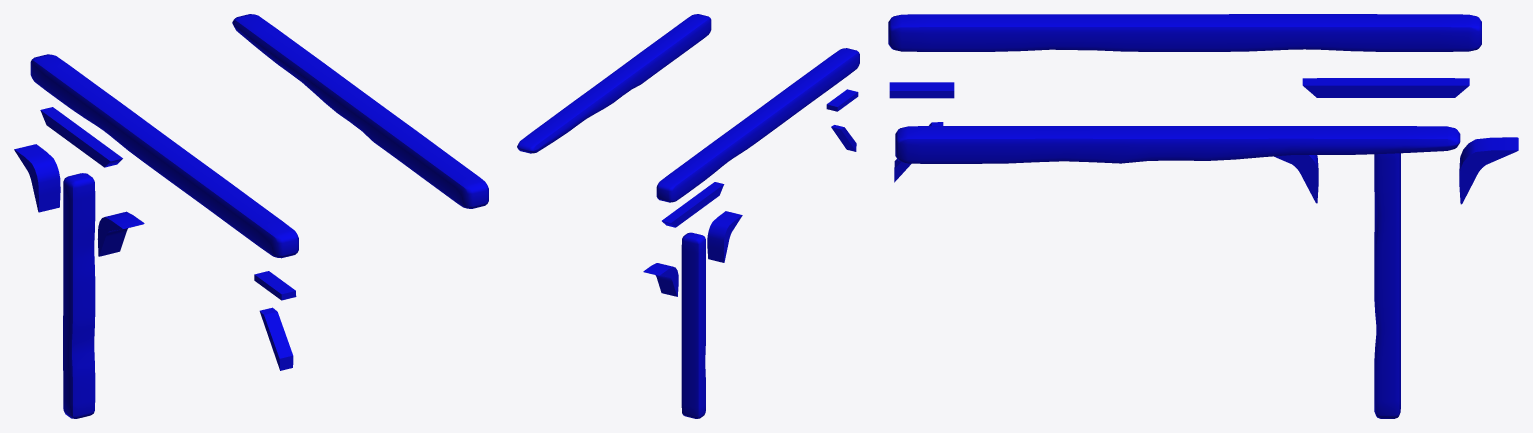
Rendered from beams_low.fbx.
The picture shows the model from 3 angles, left to right: view 1: azimuth 30°, elevation 25°; view 2: azimuth 150°, elevation 25°; view 3: azimuth 270°, elevation 25°; orthographic projection. The views are drawn at different scales.
Parts seen in each view (by area): view 1: BeamB_low1, BeamA_low1, ColumnA_low1, Col_sideC_low1, Col_topA_low1, col_sideB_low1, wallHold_B_low1, wallHold_A_low1; view 2: BeamB_low1, BeamA_low1, ColumnA_low1, col_sideB_low1, Col_topA_low1, Col_sideC_low1, wallHold_A_low1, wallHold_B_low1; view 3: BeamB_low1, BeamA_low1, ColumnA_low1, Col_topA_low1, Col_sideC_low1, wallHold_A_low1, col_sideB_low1.
Boxes of the visible parts, x1,y1,x2,y2 form: BeamB_low1: [30, 54, 298, 258]; BeamA_low1: [232, 14, 488, 208]; ColumnA_low1: [63, 173, 95, 418]; Col_sideC_low1: [14, 144, 60, 212]; Col_topA_low1: [40, 107, 122, 167]; col_sideB_low1: [97, 211, 144, 256]; wallHold_B_low1: [259, 307, 293, 370]; wallHold_A_low1: [254, 271, 296, 300]; BeamB_low1: [656, 48, 859, 202]; BeamA_low1: [517, 14, 711, 153]; ColumnA_low1: [681, 232, 705, 418]; col_sideB_low1: [707, 211, 742, 262]; Col_topA_low1: [662, 182, 724, 227]; Col_sideC_low1: [643, 263, 678, 296]; wallHold_A_low1: [826, 89, 858, 111]; wallHold_B_low1: [831, 125, 856, 151]; BeamB_low1: [888, 14, 1481, 51]; BeamA_low1: [895, 126, 1460, 163]; ColumnA_low1: [1374, 153, 1400, 418]; Col_topA_low1: [1302, 78, 1469, 97]; Col_sideC_low1: [1459, 137, 1518, 204]; wallHold_A_low1: [889, 82, 954, 98]; col_sideB_low1: [1274, 155, 1318, 203].
Bounding box in the file's own units: 20.43 × 29.68 × 42.81.
